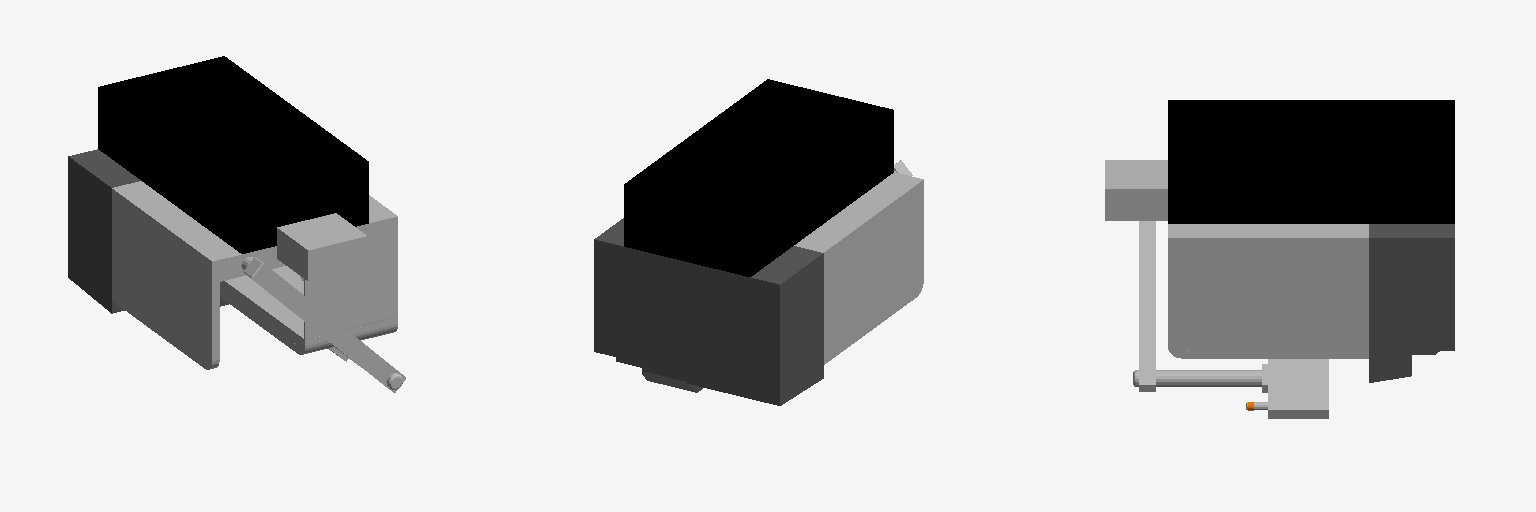
Rendered from OKUMA_V60R.obj.
3 views of the same model, side by side, from view 1: azimuth 30°, elevation 25°; view 2: azimuth 150°, elevation 25°; view 3: azimuth 270°, elevation 25° (orthographic).
Parts seen in each view (by area): view 1: Solid8, Solid27, Solid30, Solid7, Solid22; view 2: Solid8, Solid30, Solid27; view 3: Solid8, Solid27, Solid30, Solid7, Solid22.
Boxes of the visible parts, x1=… form: Solid8: x1=98, y1=56, x2=368, y2=253; Solid27: x1=112, y1=181, x2=397, y2=369; Solid30: x1=68, y1=149, x2=228, y2=313; Solid7: x1=241, y1=257, x2=405, y2=392; Solid22: x1=220, y1=290, x2=397, y2=354; Solid8: x1=624, y1=79, x2=893, y2=276; Solid30: x1=594, y1=218, x2=823, y2=405; Solid27: x1=794, y1=172, x2=923, y2=364; Solid8: x1=1168, y1=100, x2=1454, y2=223; Solid27: x1=1105, y1=160, x2=1368, y2=350; Solid30: x1=1369, y1=224, x2=1454, y2=382; Solid7: x1=1133, y1=221, x2=1328, y2=418; Solid22: x1=1168, y1=339, x2=1368, y2=358.
Bounding box in the file's own units: 2.05 × 2.39 × 3.11.